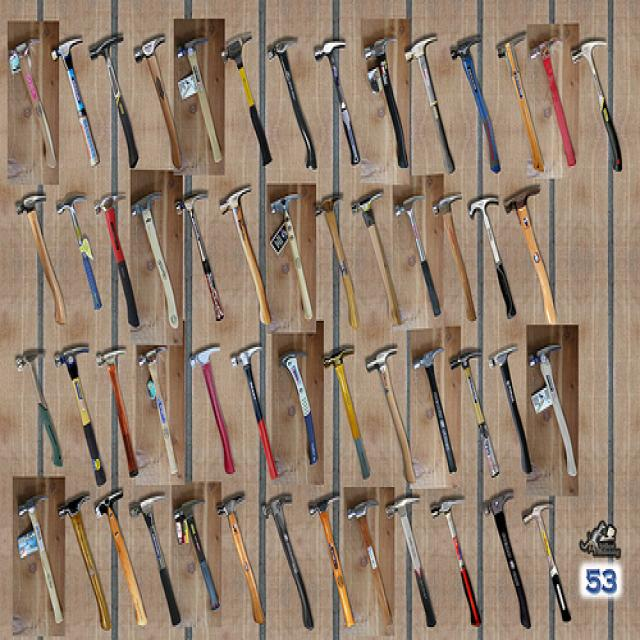hammer: (501, 174, 582, 329), (396, 15, 463, 185), (568, 27, 640, 176), (125, 334, 193, 487), (521, 478, 589, 630), (125, 481, 191, 637), (214, 19, 278, 176), (51, 330, 113, 488), (170, 184, 233, 336), (492, 20, 550, 181), (43, 20, 105, 167), (127, 20, 187, 166), (222, 334, 282, 478), (361, 334, 418, 484), (312, 17, 364, 174), (184, 335, 242, 470), (218, 179, 274, 317), (18, 189, 73, 323), (53, 483, 104, 627), (172, 20, 223, 164), (91, 331, 144, 468), (310, 180, 364, 314), (483, 334, 540, 458), (380, 478, 434, 603), (440, 330, 490, 465), (50, 179, 100, 313), (387, 179, 432, 326), (428, 176, 478, 303), (301, 482, 353, 602), (7, 329, 58, 446), (465, 187, 509, 320), (407, 326, 454, 446), (10, 476, 54, 596), (255, 484, 308, 583), (90, 187, 136, 287), (314, 339, 364, 429)
